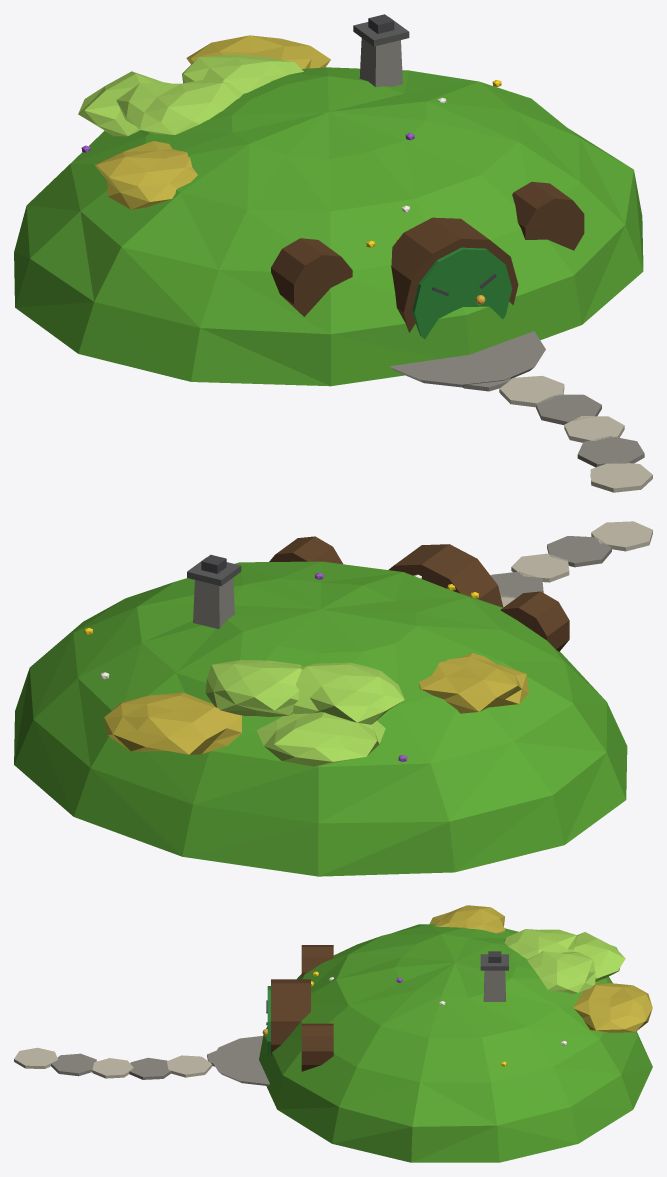
File: hobbit_hole_1.glb
The picture shows the model from 3 angles, top to bottom: view 1: azimuth 30°, elevation 25°; view 2: azimuth 150°, elevation 25°; view 3: azimuth 270°, elevation 25°; orthographic projection. The views are drawn at different scales.
Parts seen in each view (by area): view 1: hobbit_hole_1; view 2: hobbit_hole_1; view 3: hobbit_hole_1.
Part boxes in pixels (x1,y1,x2,y2): hobbit_hole_1: (14,14,652,492); hobbit_hole_1: (14,521,652,876); hobbit_hole_1: (14,905,652,1162).
Size of what is drawn, in the model's own units: 11.31 by 3.86 by 15.93.
